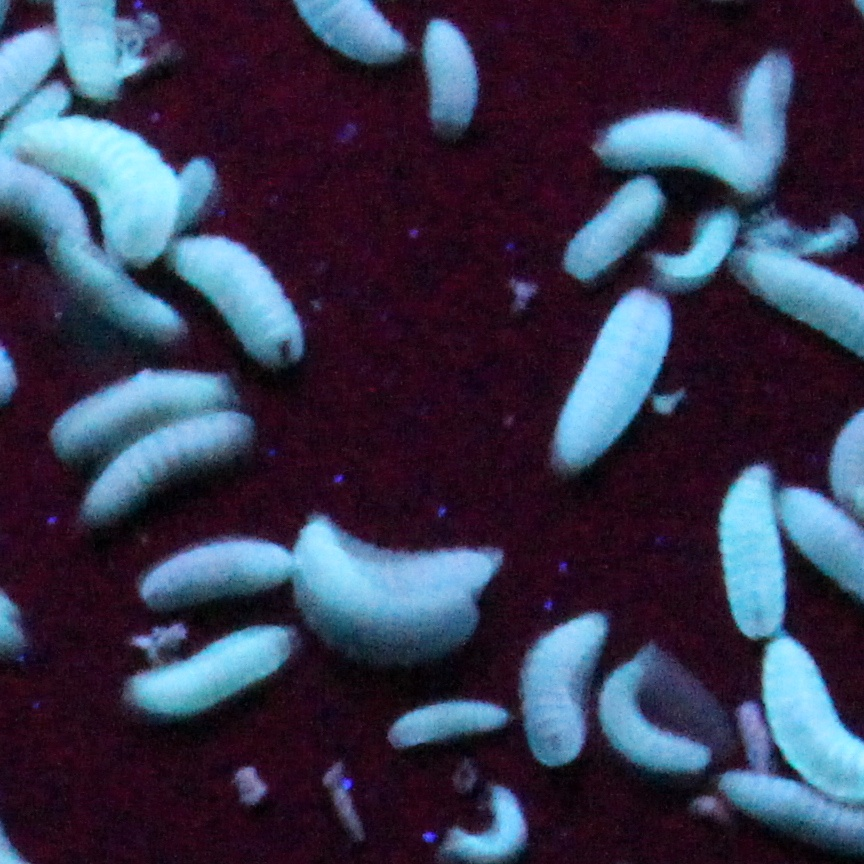larve: (305, 509, 501, 658), (17, 119, 188, 258), (79, 413, 250, 526), (176, 226, 308, 364), (53, 374, 234, 471), (558, 289, 651, 469), (711, 455, 795, 645), (598, 100, 772, 190), (601, 655, 708, 790), (531, 596, 604, 782), (124, 642, 291, 716), (130, 535, 295, 609), (59, 251, 185, 335), (559, 184, 659, 274), (424, 19, 488, 142), (737, 45, 798, 168), (392, 706, 505, 751), (669, 219, 737, 284)
